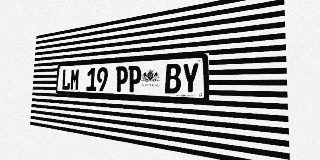1: (86, 68, 97, 91)
9: (96, 67, 108, 91)
B: (165, 63, 181, 94)
L: (61, 69, 71, 90)
M: (70, 68, 80, 90)
P: (128, 65, 141, 92), (115, 66, 128, 92)
Y: (181, 63, 199, 94)
